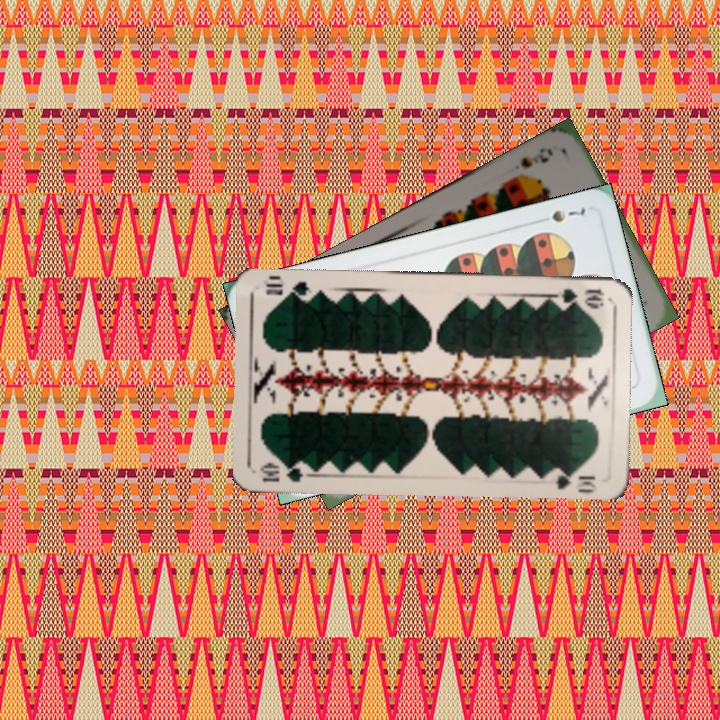G10: (255, 459, 315, 485), (549, 285, 607, 307)
S7: (547, 203, 588, 225)
S9: (506, 143, 556, 184)
